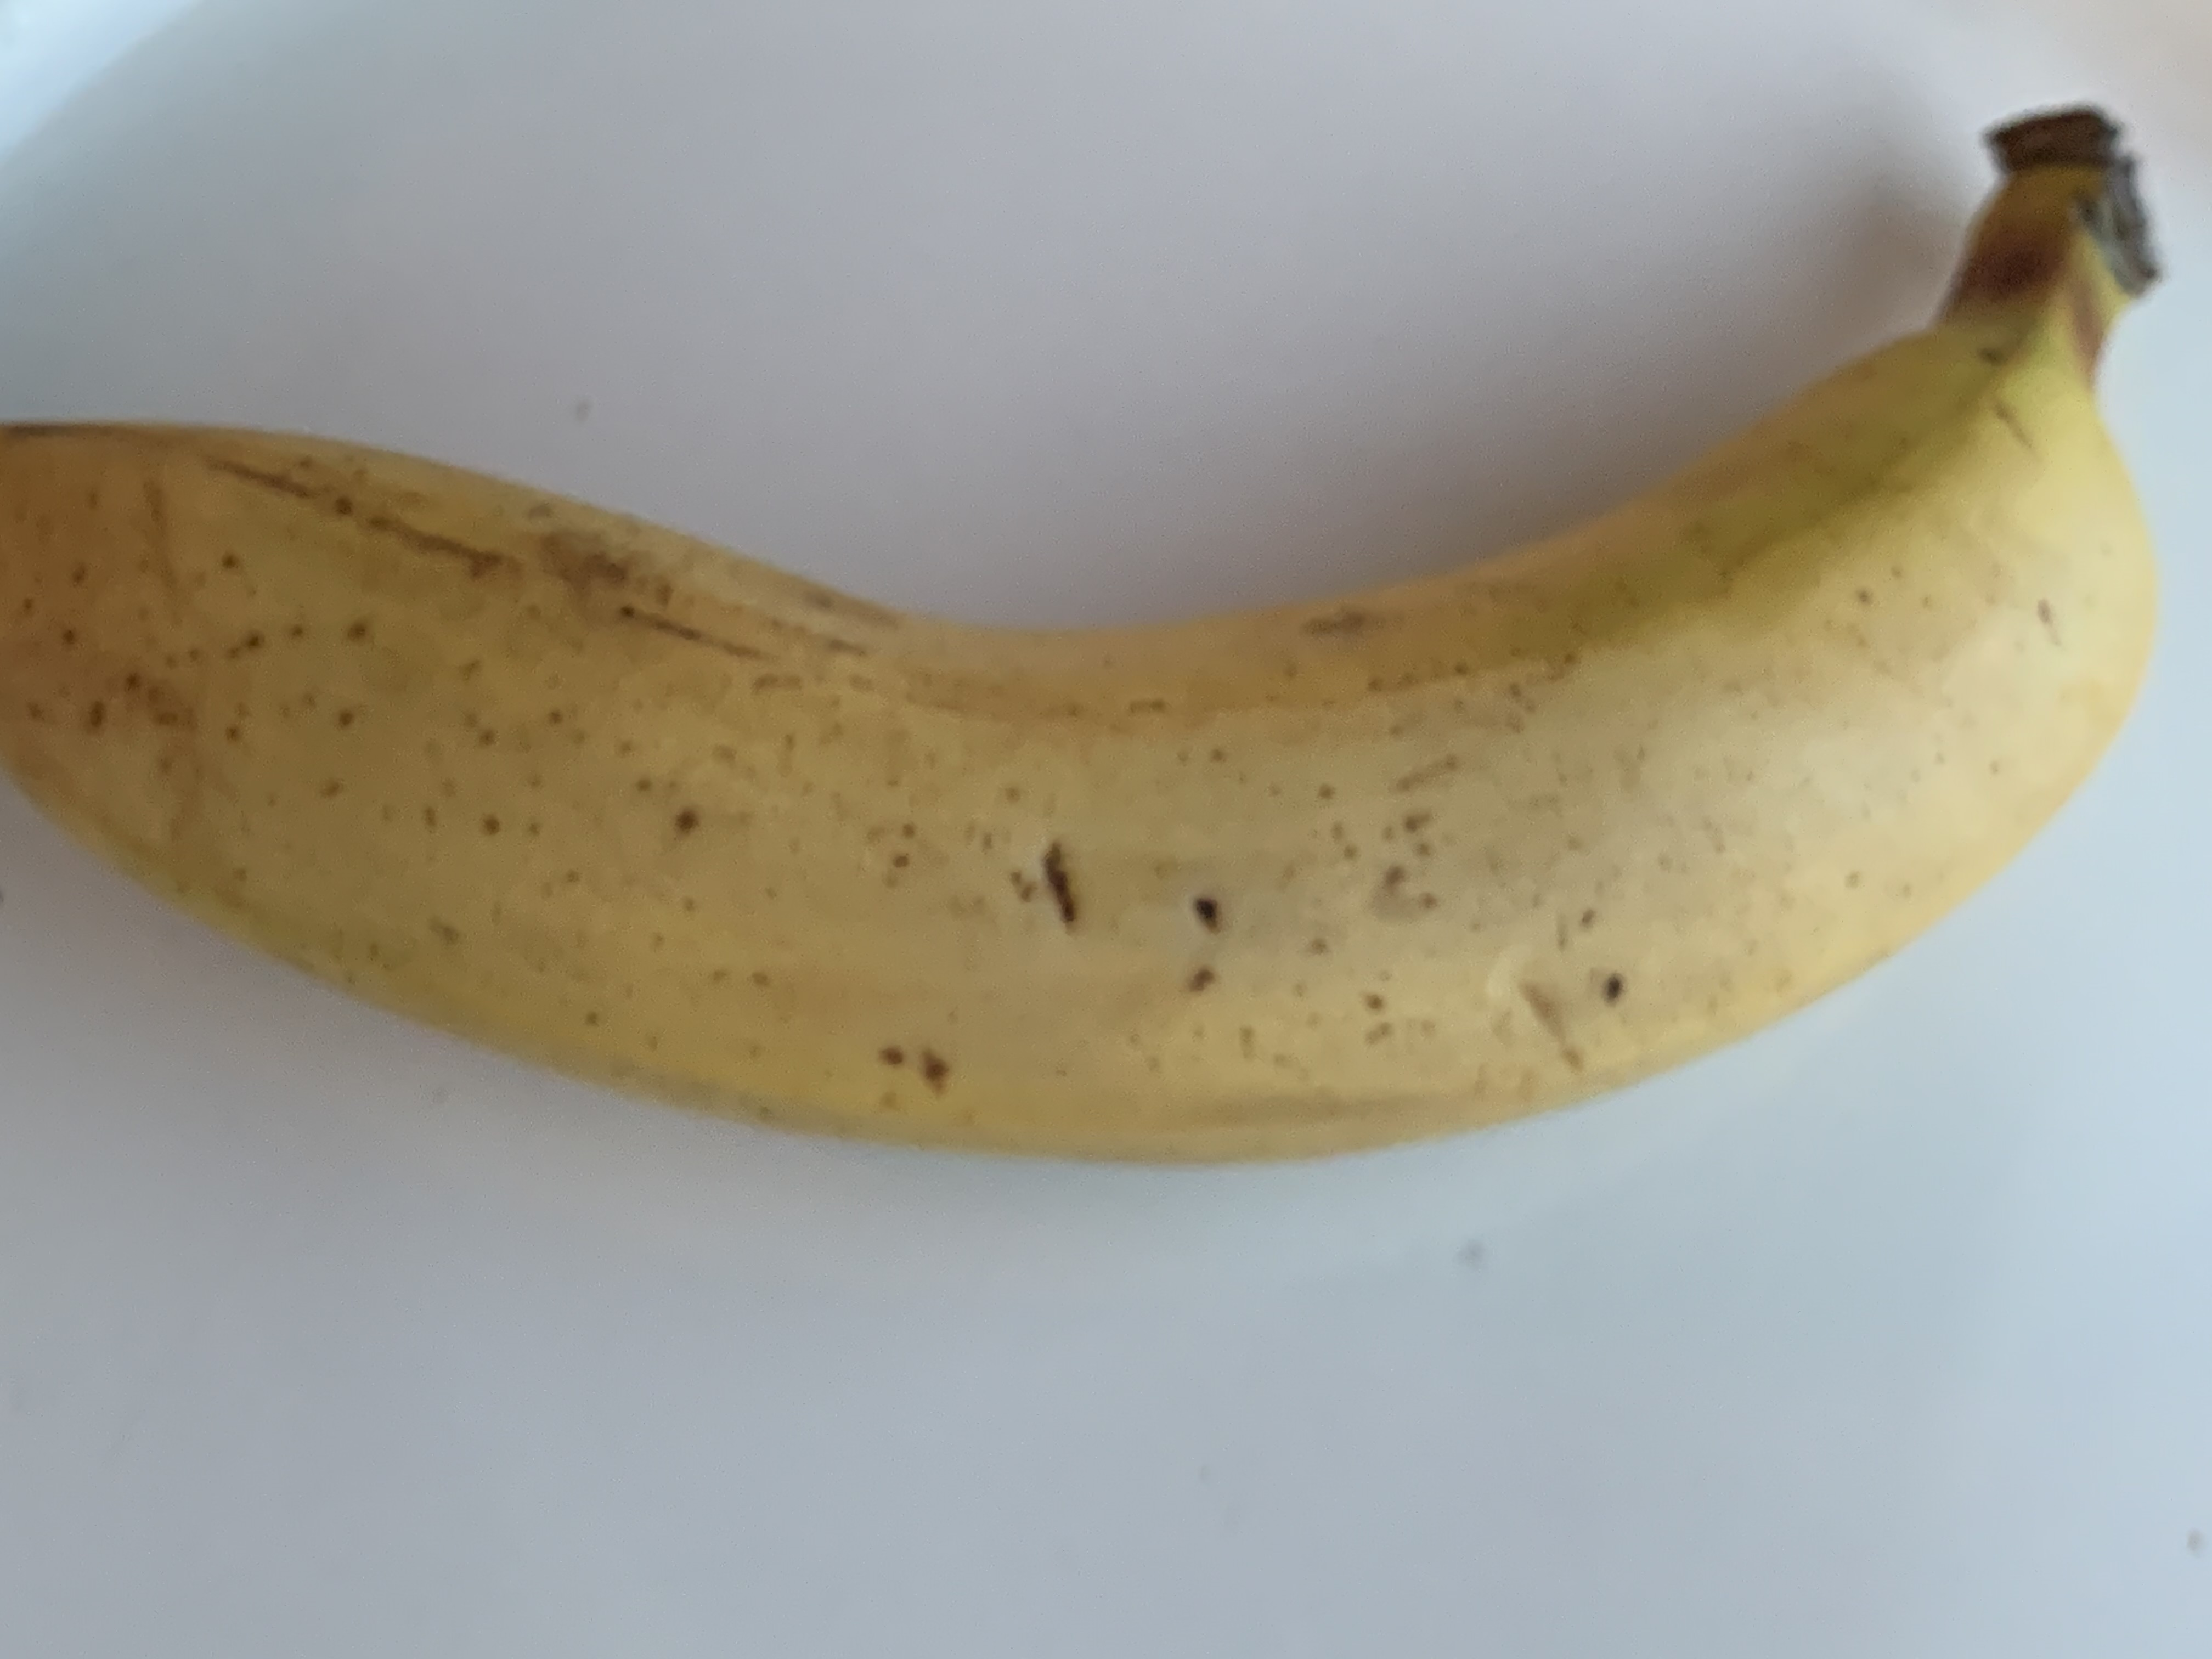banana: (9, 115, 2165, 1169)
